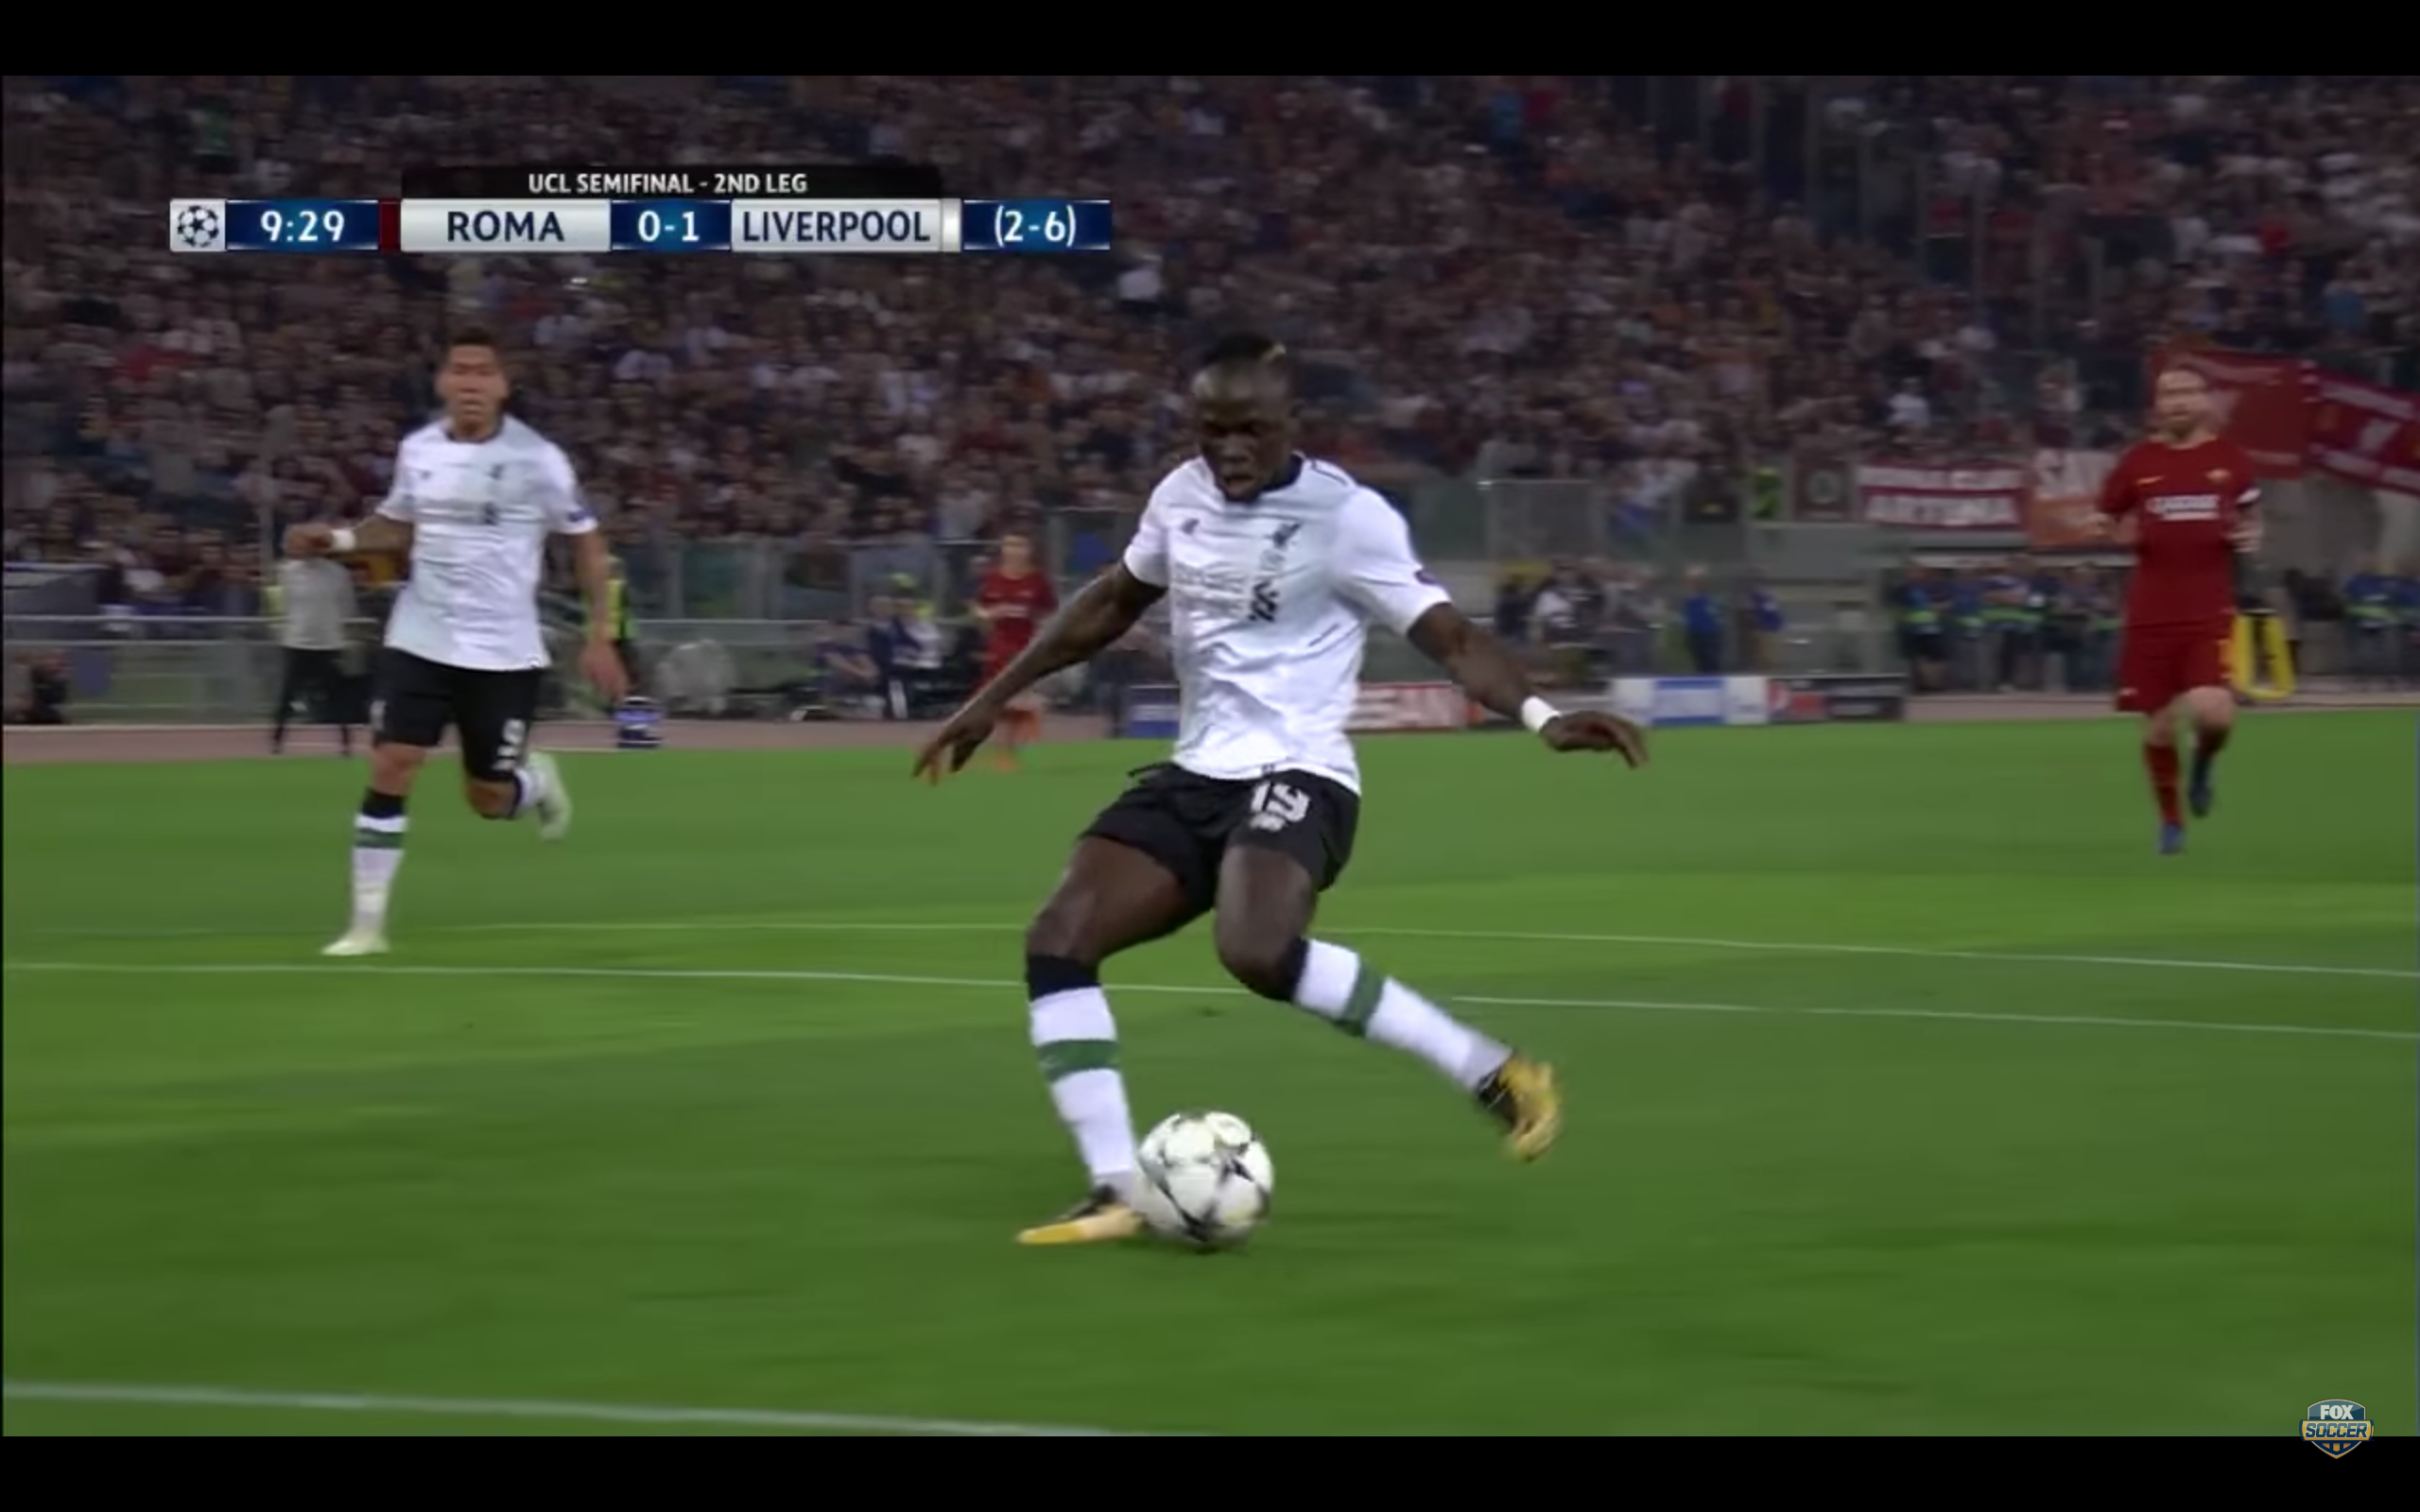soccer player: (909, 311, 1652, 1281), (260, 324, 638, 965), (2072, 359, 2273, 852)
soccerball: (1127, 1098, 1285, 1261)
